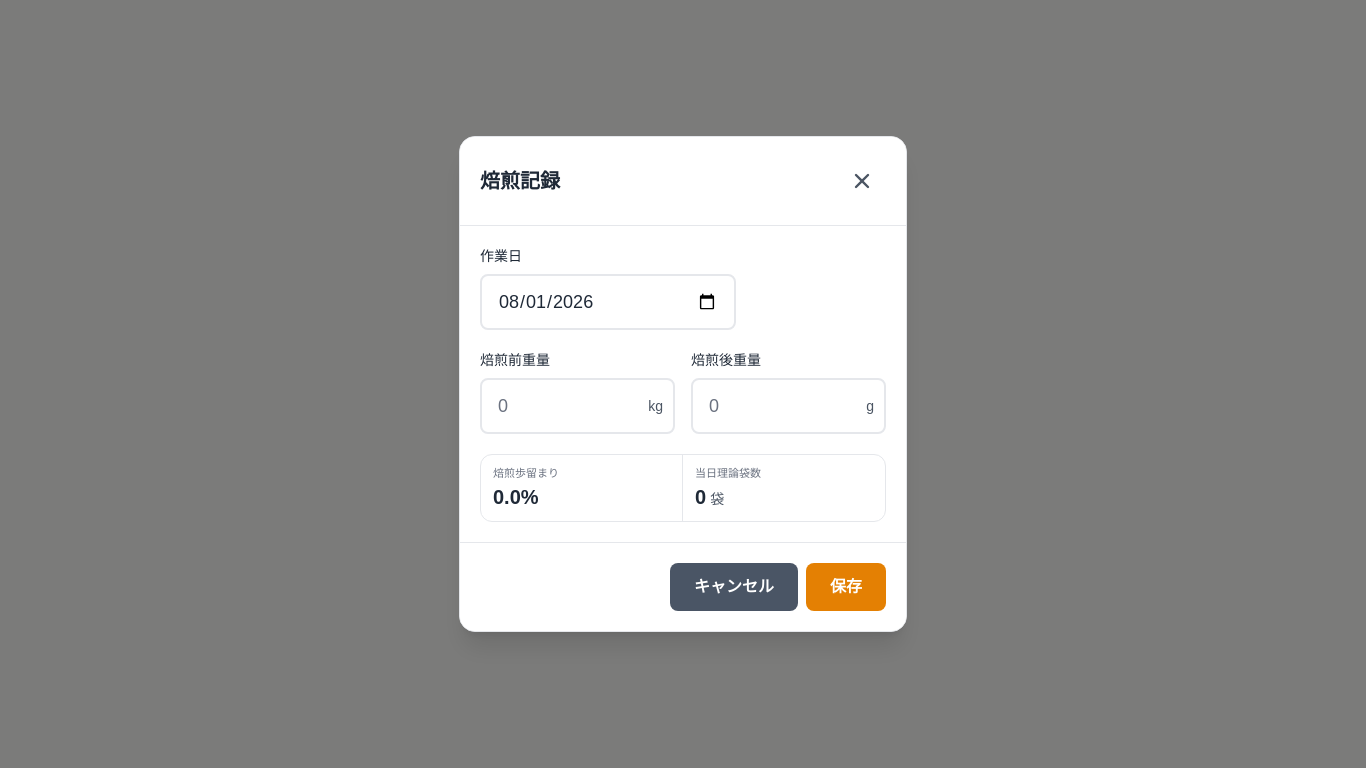
Test: RoastEntryModal › 焙煎後重量が焙煎前重量を超えると保存できずエラーを表示する
Type "8" into the number field labelled "焙煎前重量" at [578, 406], box top-left (480, 378), bottom-right (675, 434)
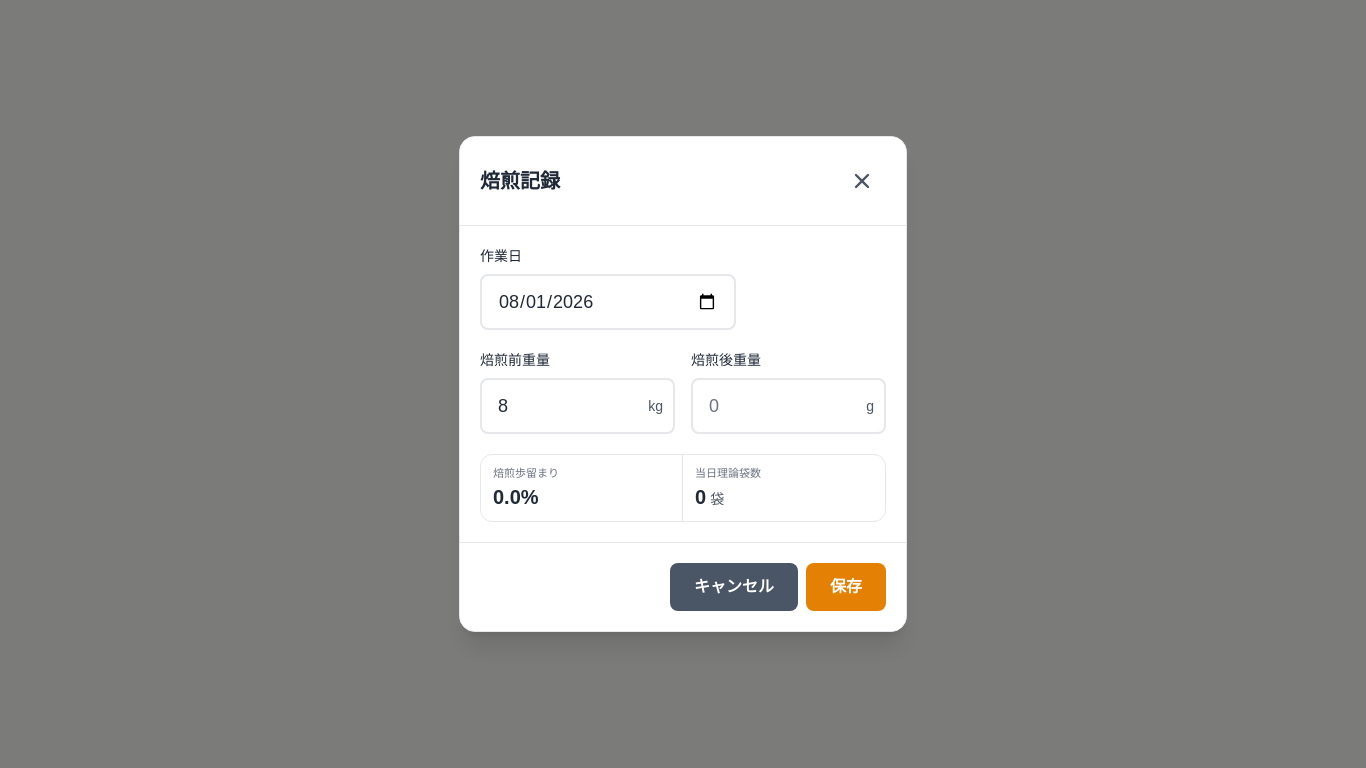
Type "9000" into the number field labelled "焙煎後重量" at [788, 406], box top-left (691, 378), bottom-right (886, 434)
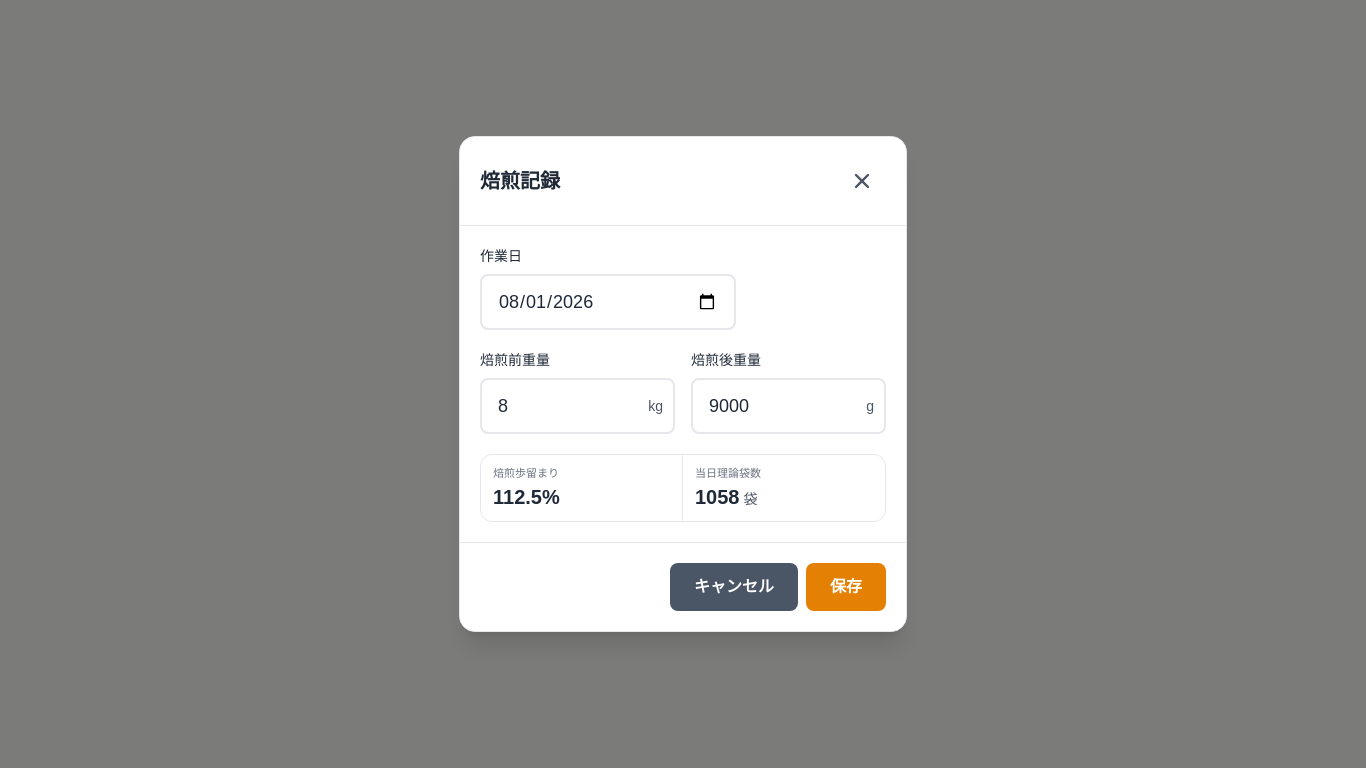
Click the button "保存" at [846, 587], box top-left (806, 563), bottom-right (886, 611)
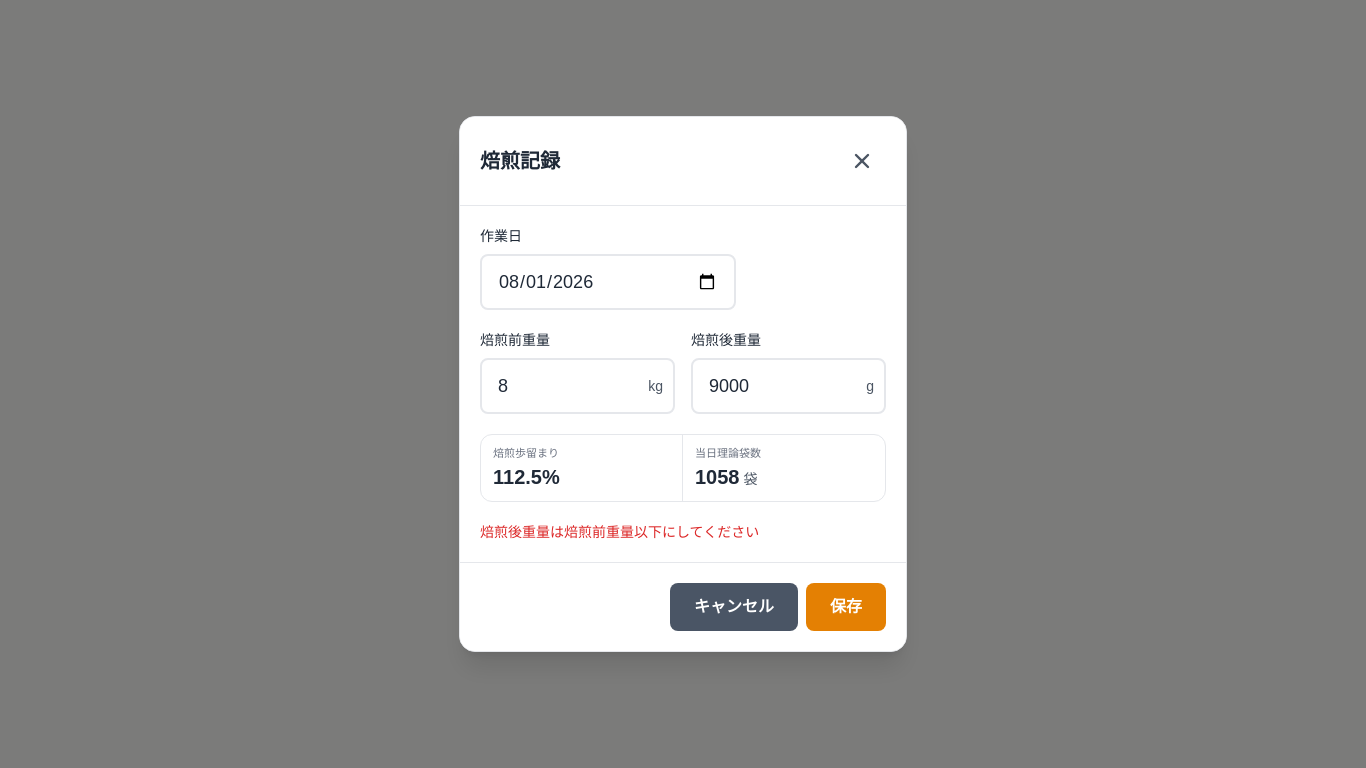
Expected: the message "焙煎後重量は焙煎前重量以下にしてください" is shown, top-left (480, 524), bottom-right (759, 540)
